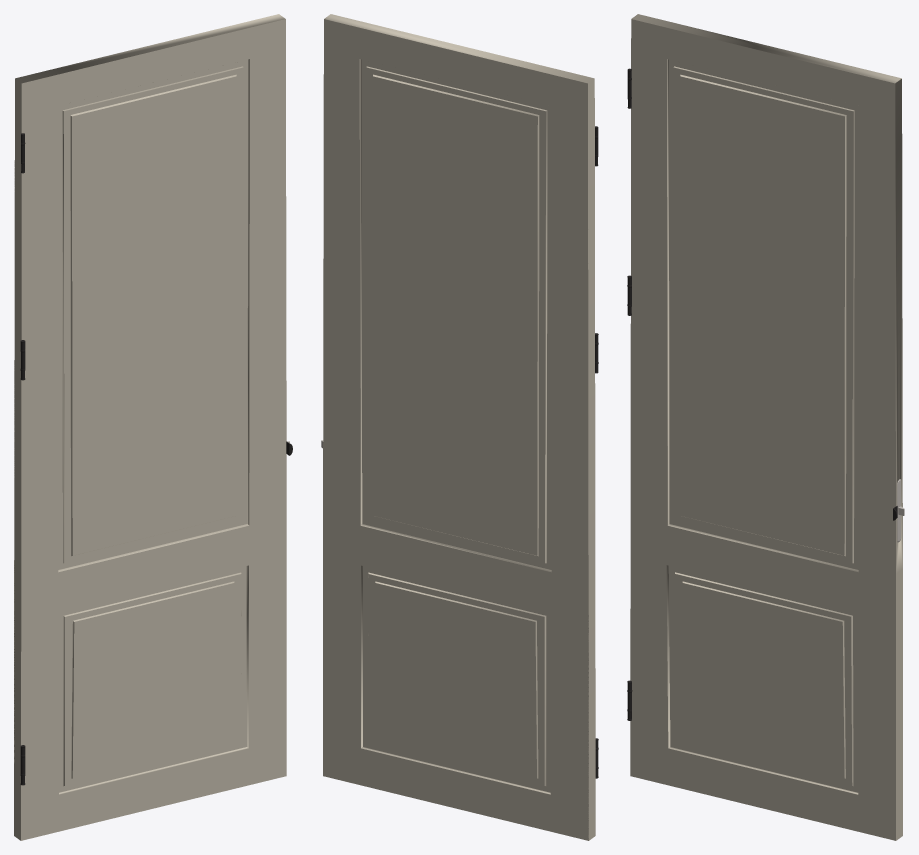
Rendered from 20_VIOLET_Door.glb.
3 renders of one model, left to right at view 1: azimuth 30°, elevation 25°; view 2: azimuth 150°, elevation 25°; view 3: azimuth 330°, elevation 25°, orthographic.
Visible parts, largest first — view 1: 20_VIOLET_Door; view 2: 20_VIOLET_Door; view 3: 20_VIOLET_Door.
Boxes of the visible parts, x1,y1,x2,y2 form: 20_VIOLET_Door: [14, 14, 292, 840]; 20_VIOLET_Door: [321, 14, 598, 840]; 20_VIOLET_Door: [627, 14, 904, 840].
Size of the model in its own units: 0.8265 by 2.19 by 0.0538.
